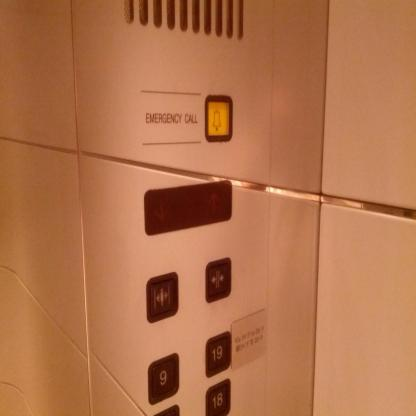18: (204, 375, 233, 416)
19: (203, 330, 233, 380)
9: (146, 350, 181, 407)
alarm: (203, 91, 234, 145)
close: (204, 254, 233, 304)
led: (142, 178, 234, 238)
open: (144, 270, 180, 325)
